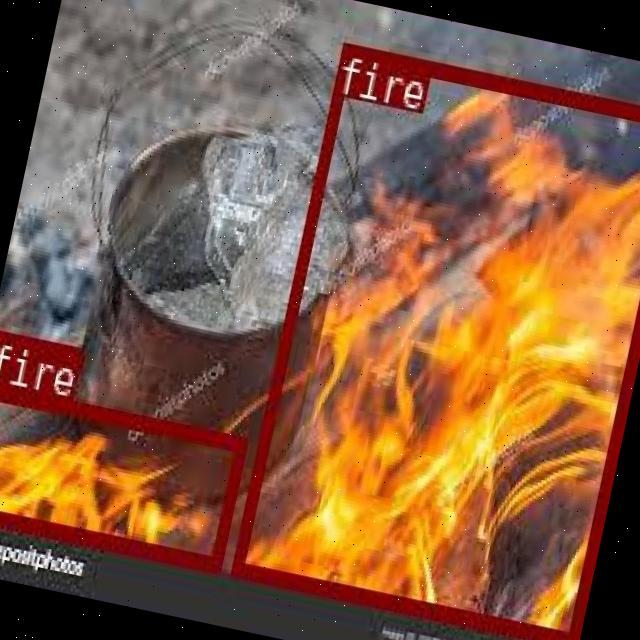fire: (229, 39, 640, 640), (0, 378, 247, 569)
